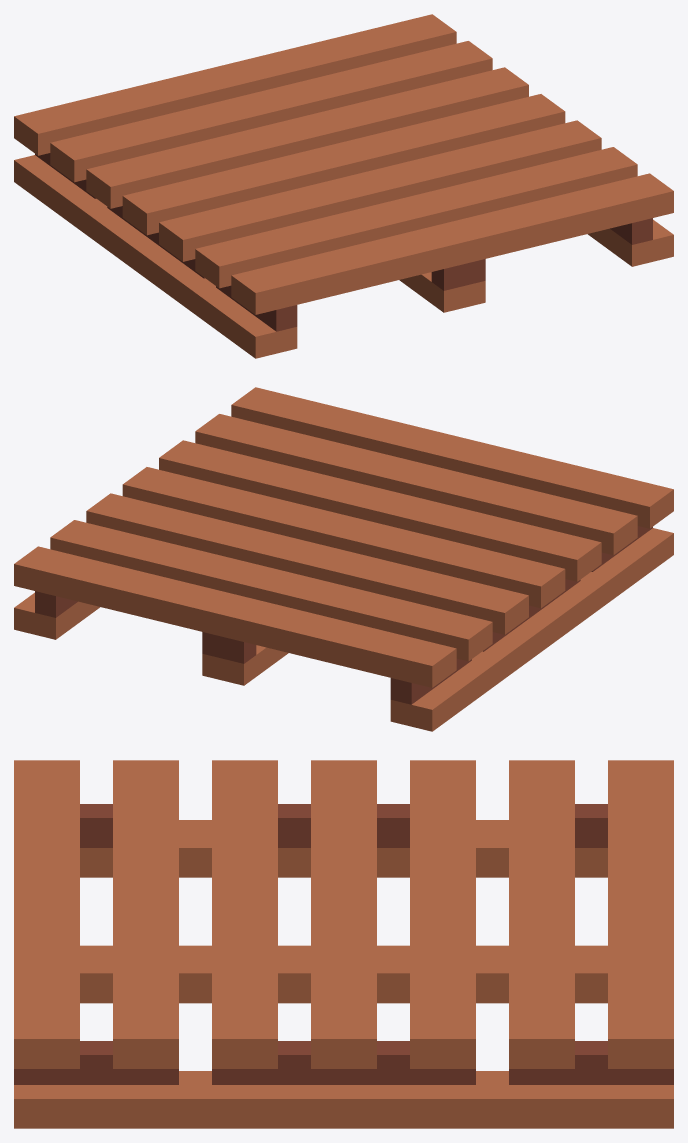
The model's file is Pallet.obj.
The picture shows the model from 3 angles, top to bottom: view 1: azimuth 30°, elevation 25°; view 2: azimuth 150°, elevation 25°; view 3: azimuth 270°, elevation 25°; orthographic projection. The views are drawn at different scales.
Bounding box in the file's own units: 2 × 0.3 × 2.
Materials: 1 (1 with a texture image).
